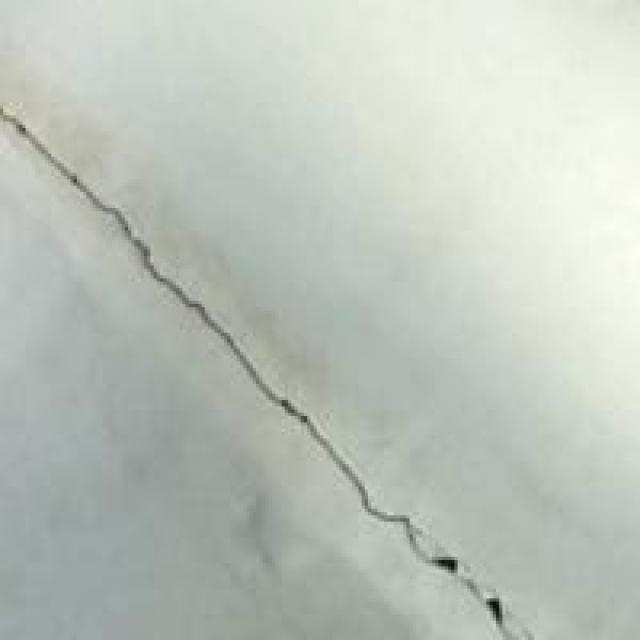Crack: (6, 96, 512, 634)
